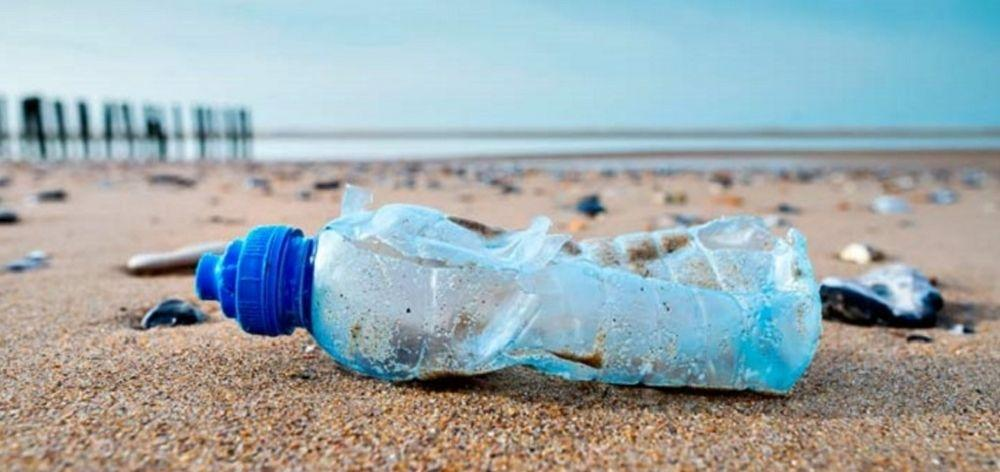Plastic: (171, 185, 861, 426)
